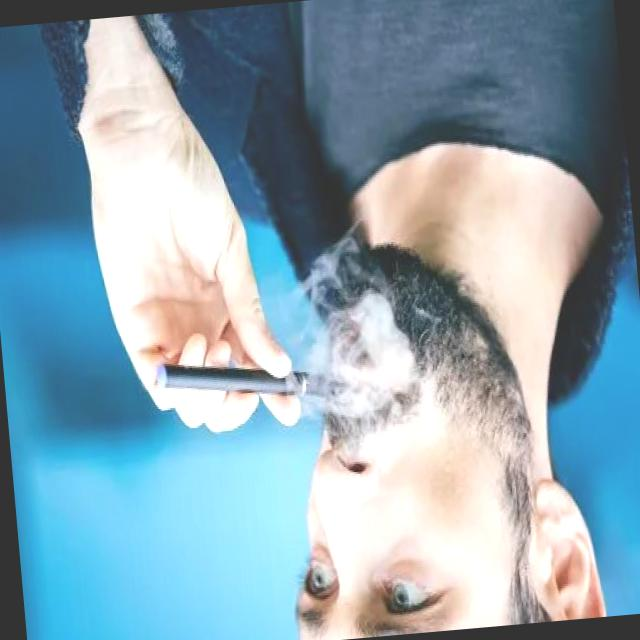cigarette: (152, 339, 355, 416)
